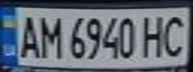0: (118, 13, 139, 60)
4: (103, 13, 121, 60)
6: (63, 12, 87, 60)
9: (81, 12, 103, 61)
A: (15, 11, 42, 60)
C: (160, 11, 190, 58)
H: (139, 11, 169, 58)
M: (36, 11, 63, 60)
